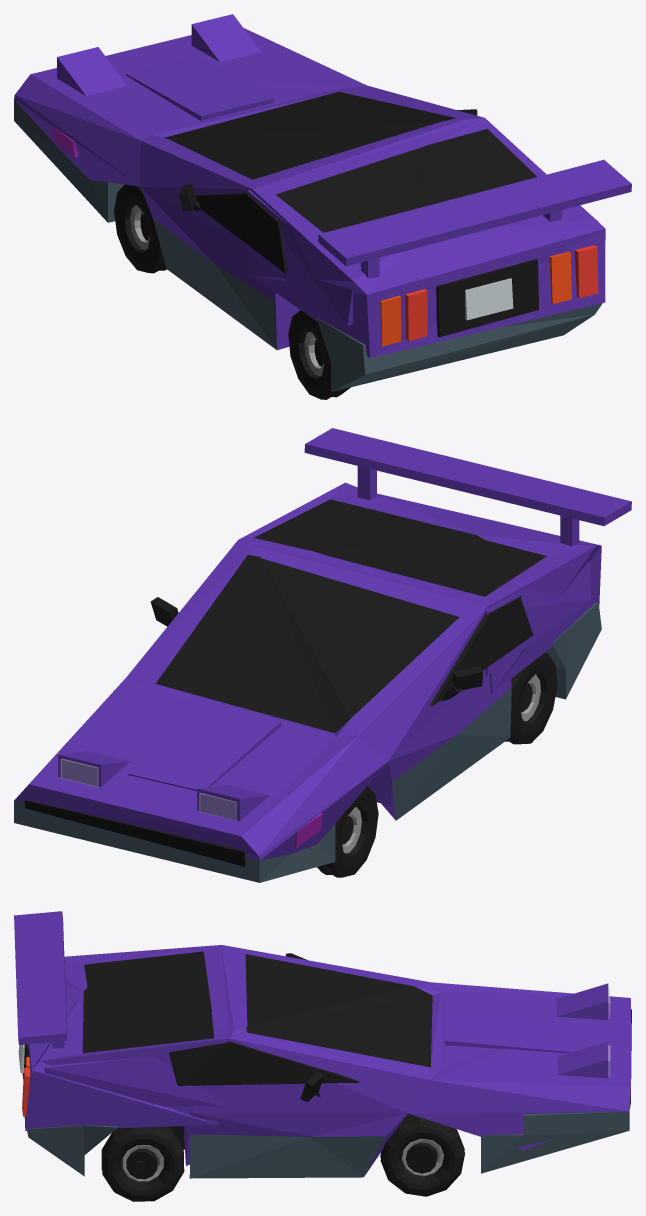
File: eighties-gt.glb
3 renders of one model, top to bottom at view 1: azimuth 30°, elevation 25°; view 2: azimuth 150°, elevation 25°; view 3: azimuth 270°, elevation 25°, orthographic. The views are drawn at different scales.
Visible parts, largest first — view 1: group1128419807, group988151536, group277242219, group721949634, group76841975, group45807266, group461244471, group2013031579, group1451283957, group227849536, group8389681, group1661375634 (+6 smaller); view 2: group1128419807, group988151536, group277242219, group76841975, group1451283957, group461244471, group2013031579, group811078233, group424329267, group721949634, group227849536, group8389681 (+3 smaller); view 3: group1128419807, group988151536, group277242219, group1956411283, group1451283957, group2013031579, group76841975, group1216388560, group1220012367, group721949634, group8389681, group1661375634 (+4 smaller).
Boxes of the visible parts, box(x1,y1,x2,y2) form: group1128419807: box(14, 28, 484, 350); group988151536: box(252, 118, 605, 357); group277242219: box(318, 159, 631, 266); group721949634: box(316, 303, 602, 391); group76841975: box(126, 55, 273, 120); group45807266: box(436, 259, 538, 337); group461244471: box(195, 193, 287, 273); group2013031579: box(247, 189, 598, 325); group1451283957: box(14, 99, 123, 222); group227849536: box(114, 184, 164, 273); group8389681: box(57, 47, 127, 96); group1661375634: box(191, 14, 260, 61); group1128419807: box(14, 540, 511, 860); group988151536: box(238, 482, 601, 693); group277242219: box(304, 428, 631, 525); group76841975: box(128, 702, 281, 790); group1451283957: box(14, 800, 335, 882); group461244471: box(429, 595, 532, 705); group2013031579: box(485, 560, 590, 675); group811078233: box(24, 799, 245, 866); group424329267: box(508, 652, 557, 744); group721949634: box(545, 602, 601, 699); group227849536: box(323, 786, 378, 877); group8389681: box(197, 784, 269, 820); group1128419807: box(184, 945, 630, 1178); group988151536: box(24, 945, 229, 1130); group277242219: box(14, 911, 67, 1044); group1956411283: box(169, 1041, 359, 1085); group1451283957: box(481, 1111, 629, 1173); group2013031579: box(44, 1056, 226, 1106); group76841975: box(444, 1010, 579, 1053); group1216388560: box(102, 1127, 184, 1201); group1220012367: box(380, 1117, 464, 1196); group721949634: box(26, 1125, 117, 1176); group8389681: box(556, 983, 608, 1020); group1661375634: box(557, 1042, 608, 1078).
Size of the model in its own units: 3.09 by 1.93 by 6.
